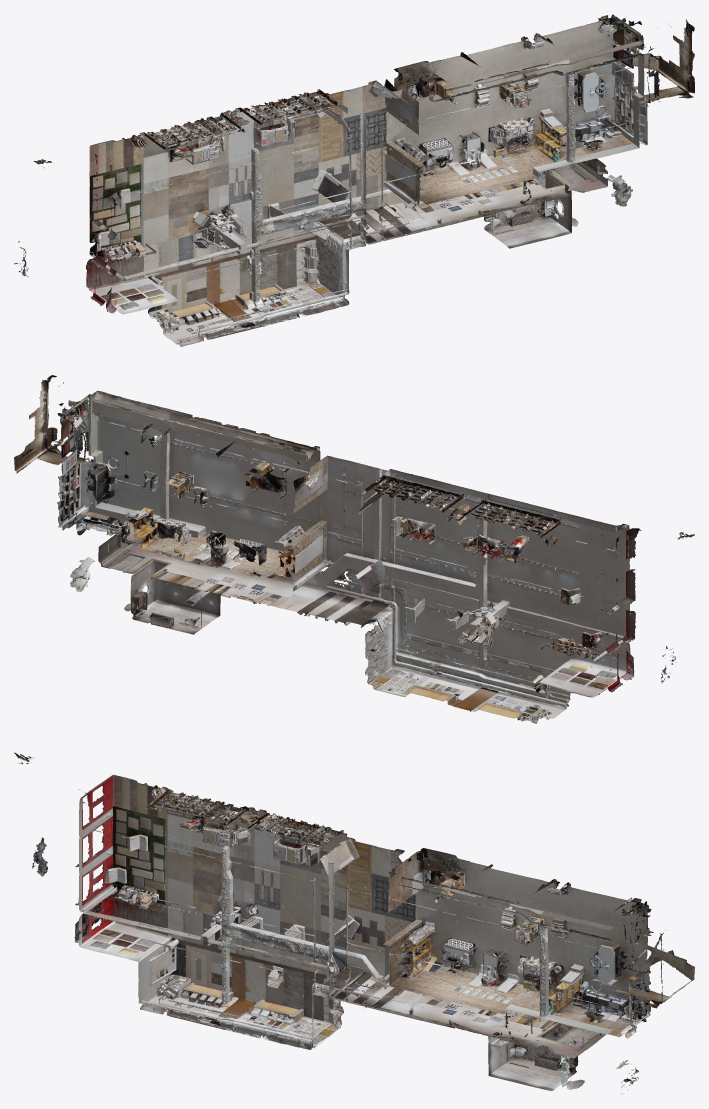
3 views of the same model, one above another, from view 1: azimuth 30°, elevation 25°; view 2: azimuth 150°, elevation 25°; view 3: azimuth 330°, elevation 25° (orthographic). The views are drawn at different scales.
Size of the model in its own units: 39.36 by 12.22 by 4.18.
Materials: 64 (64 with a texture image).
